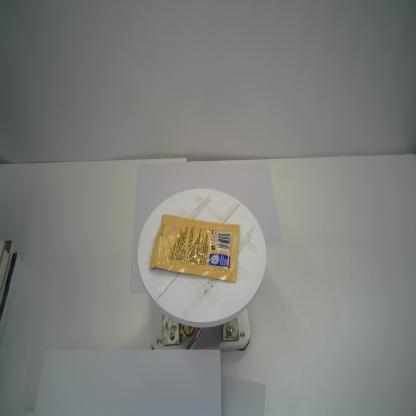Seasoner: (148, 213, 241, 284)
